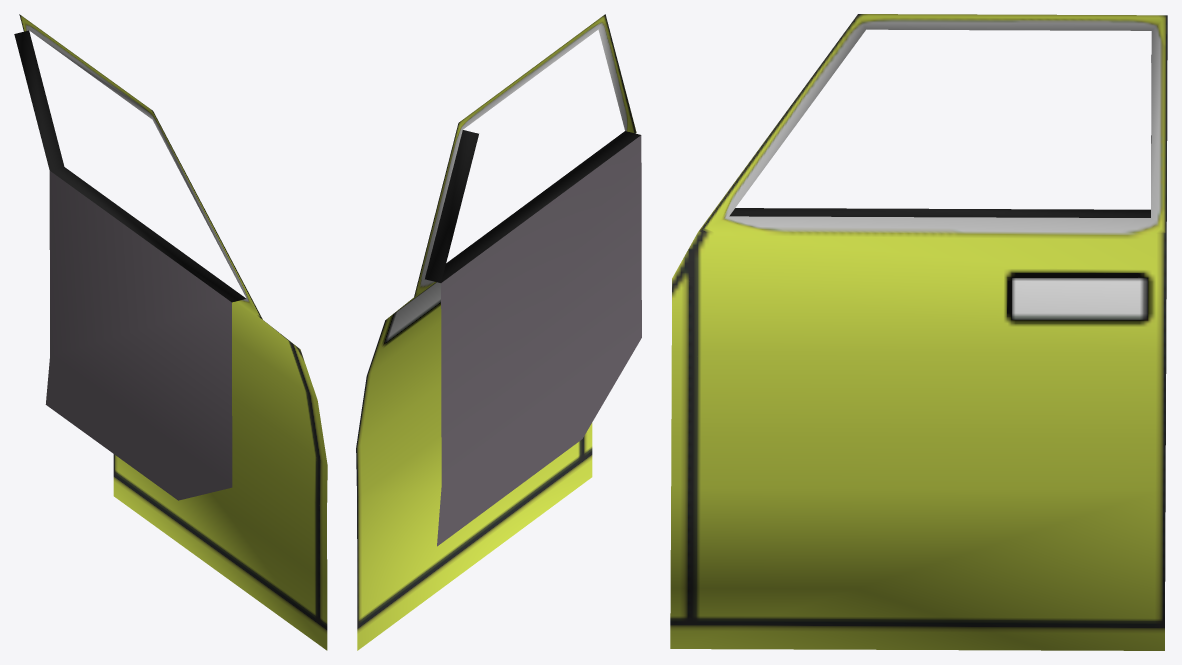
The model's file is pintu_mobil.glb.
3 views of the same model, side by side, from view 1: azimuth 30°, elevation 25°; view 2: azimuth 150°, elevation 25°; view 3: azimuth 270°, elevation 25° (orthographic). The views are drawn at different scales.
Parts seen in each view (by area): view 1: Object_2.001; view 2: Object_2.001; view 3: Object_2.001.
Boxes of the visible parts, bbox=[...] form: Object_2.001: bbox=[14, 14, 327, 650]; Object_2.001: bbox=[356, 14, 641, 650]; Object_2.001: bbox=[670, 14, 1167, 650].
Bounding box in the file's own units: 0.2008 × 0.9155 × 0.7062.
1 material, 1 textured.
